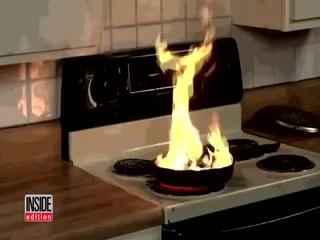Fire: (152, 22, 236, 171)
